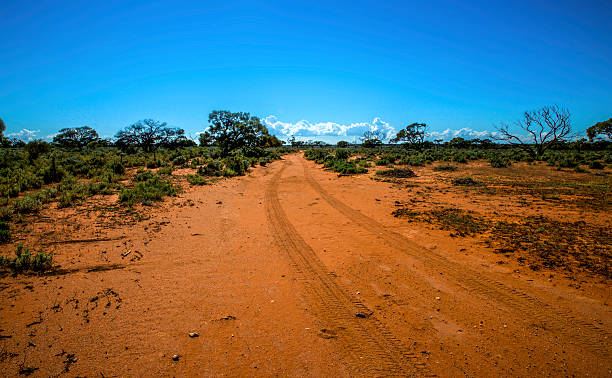vehicle_track: (302, 161, 609, 357), (265, 166, 429, 375)
